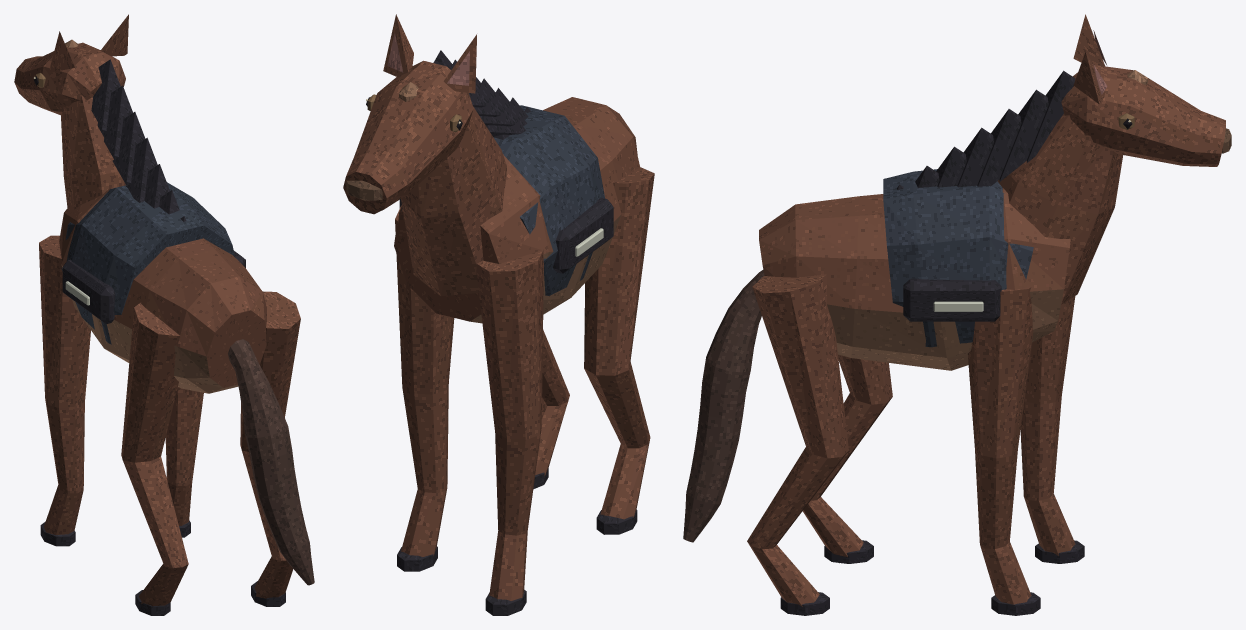
The model's file is mon_horse_police.glb.
3 renders of one model, left to right at view 1: azimuth 30°, elevation 25°; view 2: azimuth 150°, elevation 25°; view 3: azimuth 270°, elevation 25°, orthographic. The views are drawn at different scales.
Parts seen in each view (by area): view 1: closed_body; view 2: closed_body; view 3: closed_body.
Part boxes in pixels (x1,y1,x2,y2): closed_body: [14, 14, 314, 615]; closed_body: [343, 14, 654, 615]; closed_body: [683, 14, 1231, 615].
Bounding box in the file's own units: 0.913 × 2.9 × 2.6.
1 material, 1 textured.
